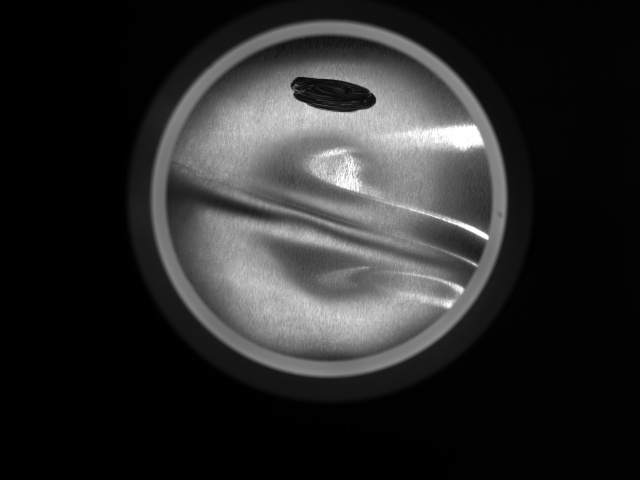zang_wu: (290, 76, 377, 114)
zhe_zhou: (202, 70, 455, 324)
